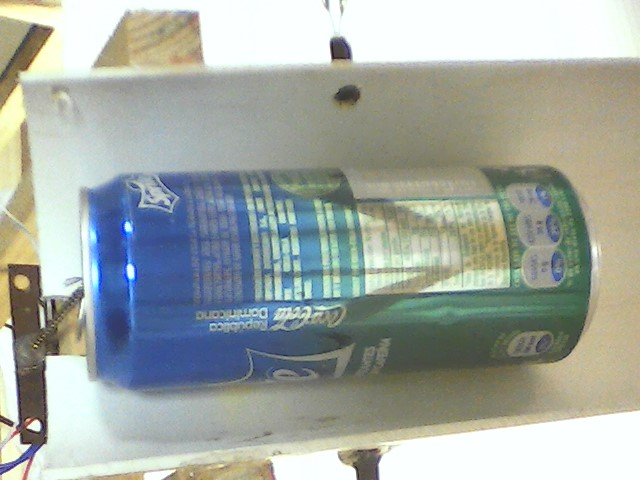lata: (77, 162, 602, 395)
